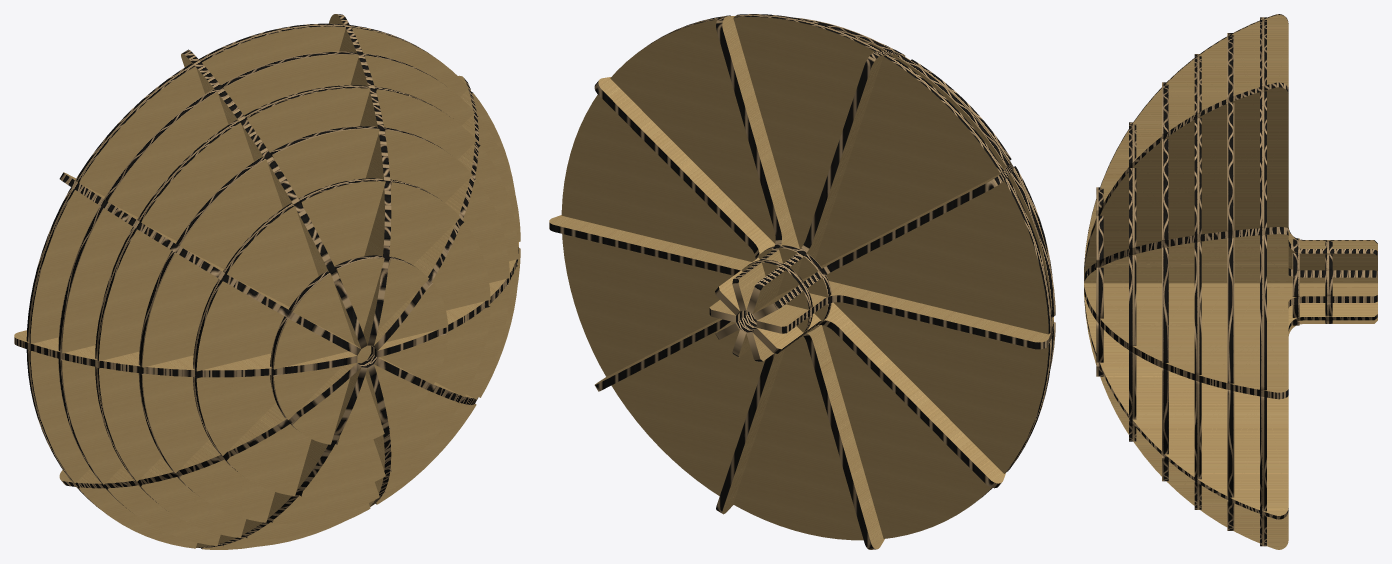
Rendered from Halbkugel 03_02.obj.
3 views of the same model, side by side, from view 1: azimuth 30°, elevation 25°; view 2: azimuth 150°, elevation 25°; view 3: azimuth 270°, elevation 25° (orthographic). The views are drawn at different scales.
Parts seen in each view (by area): view 1: Slice_Z-7_Part_0000_CapTop_0000, Slice_Z-6_Part_0000_CapTop_0000, Slice_Z-5_Part_0000_CapTop_0000, Slice_Z-4_Part_0000_CapTop_0000, Slice_Z-3_Part_0000_CapTop_0000, Slice_Z-8_Part_0000_CapTop_0000, Slice_Z-3_Part_0000_Ribbon_0000, Slice_Z-4_Part_0000_Ribbon_0000, Slice_Y-5_Part_0000_Ribbon_0000, Slice_Y-4_Part_0000_Ribbon_0000, Slice_Z-5_Part_0000_Ribbon_0000, Slice_Y-6_Part_0000_Ribbon_0000 (+17 smaller); view 2: Slice_Z-3_Part_0000_CapBot_0000, Slice_Y-7_Part_0000_CapTop_0000, Slice_Y-3_Part_0000_CapBot_0000, Slice_Y-2_Part_0000_CapBot_0000, Slice_Y-8_Part_0000_CapTop_0000, Slice_Y-6_Part_0000_CapTop_0000, Slice_Z-3_Part_0000_Ribbon_0000, Slice_Y-4_Part_0000_CapBot_0000, Slice_Y-1_Part_0000_CapBot_0000, Slice_Y-5_Part_0000_Ribbon_0000, Slice_Y-4_Part_0000_Ribbon_0000, Slice_Y-6_Part_0000_Ribbon_0000 (+14 smaller); view 3: Slice_Y-3_Part_0000_CapTop_0000, Slice_Y-10_Part_0000_CapBot_0000, Slice_Y-1_Part_0000_CapBot_0000, Slice_Y-4_Part_0000_CapTop_0000, Slice_Y-2_Part_0000_CapTop_0000, Slice_Y-9_Part_0000_CapBot_0000, Slice_Z-4_Part_0000_Ribbon_0000, Slice_Z-3_Part_0000_Ribbon_0000, Slice_Z-5_Part_0000_Ribbon_0000, Slice_Z-6_Part_0000_Ribbon_0000, Slice_Z-7_Part_0000_Ribbon_0000, Slice_Y-2_Part_0000_Ribbon_0000 (+7 smaller).
Boxes of the visible parts, x1,y1,x2,y2 form: Slice_Z-7_Part_0000_CapTop_0000: (196,181,490,496); Slice_Z-6_Part_0000_CapTop_0000: (142,129,509,523); Slice_Z-5_Part_0000_CapTop_0000: (99,88,518,539); Slice_Z-4_Part_0000_CapTop_0000: (62,54,520,547); Slice_Z-3_Part_0000_CapTop_0000: (30,26,515,549); Slice_Z-8_Part_0000_CapTop_0000: (274,258,447,445); Slice_Z-3_Part_0000_Ribbon_0000: (26,23,472,548); Slice_Z-4_Part_0000_Ribbon_0000: (58,51,519,546); Slice_Y-5_Part_0000_Ribbon_0000: (59,172,360,355); Slice_Y-4_Part_0000_Ribbon_0000: (182,49,367,348); Slice_Z-5_Part_0000_Ribbon_0000: (95,85,517,538); Slice_Y-6_Part_0000_Ribbon_0000: (14,337,357,377); Slice_Z-3_Part_0000_CapBot_0000: (561,16,1048,540); Slice_Y-7_Part_0000_CapTop_0000: (757,302,1005,483); Slice_Y-3_Part_0000_CapBot_0000: (722,16,799,309); Slice_Y-2_Part_0000_CapBot_0000: (598,77,774,310); Slice_Y-8_Part_0000_CapTop_0000: (753,325,884,549); Slice_Y-6_Part_0000_CapTop_0000: (757,281,1053,342); Slice_Z-3_Part_0000_Ribbon_0000: (647,14,1052,502); Slice_Y-4_Part_0000_CapBot_0000: (753,54,898,313); Slice_Y-1_Part_0000_CapBot_0000: (549,215,751,315); Slice_Y-5_Part_0000_Ribbon_0000: (753,161,1013,320); Slice_Y-4_Part_0000_Ribbon_0000: (746,50,899,313); Slice_Y-6_Part_0000_Ribbon_0000: (756,295,1053,349); Slice_Y-3_Part_0000_CapTop_0000: (1084,87,1377,275); Slice_Y-10_Part_0000_CapBot_0000: (1084,292,1377,515); Slice_Y-1_Part_0000_CapBot_0000: (1084,283,1377,392); Slice_Y-4_Part_0000_CapTop_0000: (1084,15,1377,268); Slice_Y-2_Part_0000_CapTop_0000: (1084,234,1377,283); Slice_Y-9_Part_0000_CapBot_0000: (1084,301,1377,549); Slice_Z-4_Part_0000_Ribbon_0000: (1227,33,1234,530); Slice_Z-3_Part_0000_Ribbon_0000: (1260,17,1266,546); Slice_Z-5_Part_0000_Ribbon_0000: (1194,54,1201,509); Slice_Z-6_Part_0000_Ribbon_0000: (1162,82,1168,481); Slice_Z-7_Part_0000_Ribbon_0000: (1129,122,1136,441); Slice_Y-2_Part_0000_Ribbon_0000: (1084,227,1377,282).
Bounding box in the file's own units: 449 × 440 × 245.
2 materials, 2 textured.
